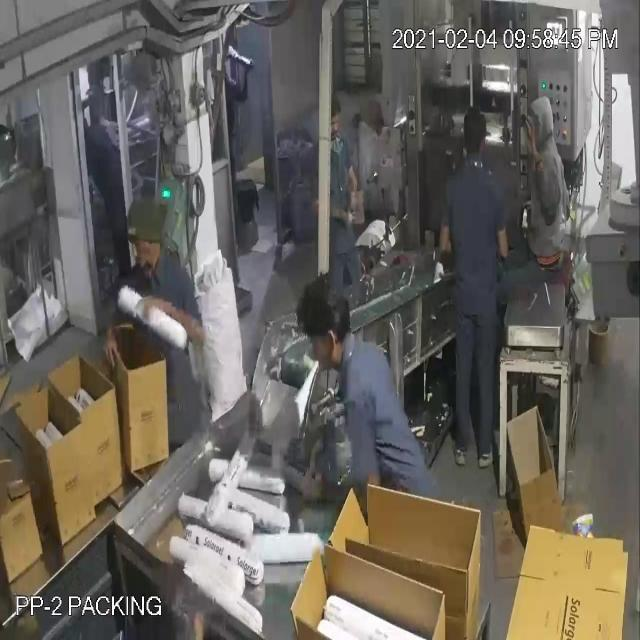No_Gloves: (36, 74, 166, 338)
